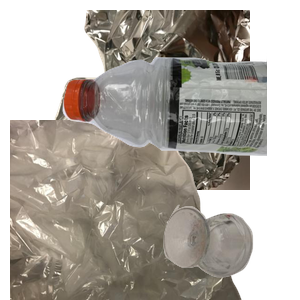glass: (161, 202, 300, 300)
metal: (52, 10, 292, 190)
plastic: (60, 53, 300, 201)
trash: (10, 120, 244, 300)
